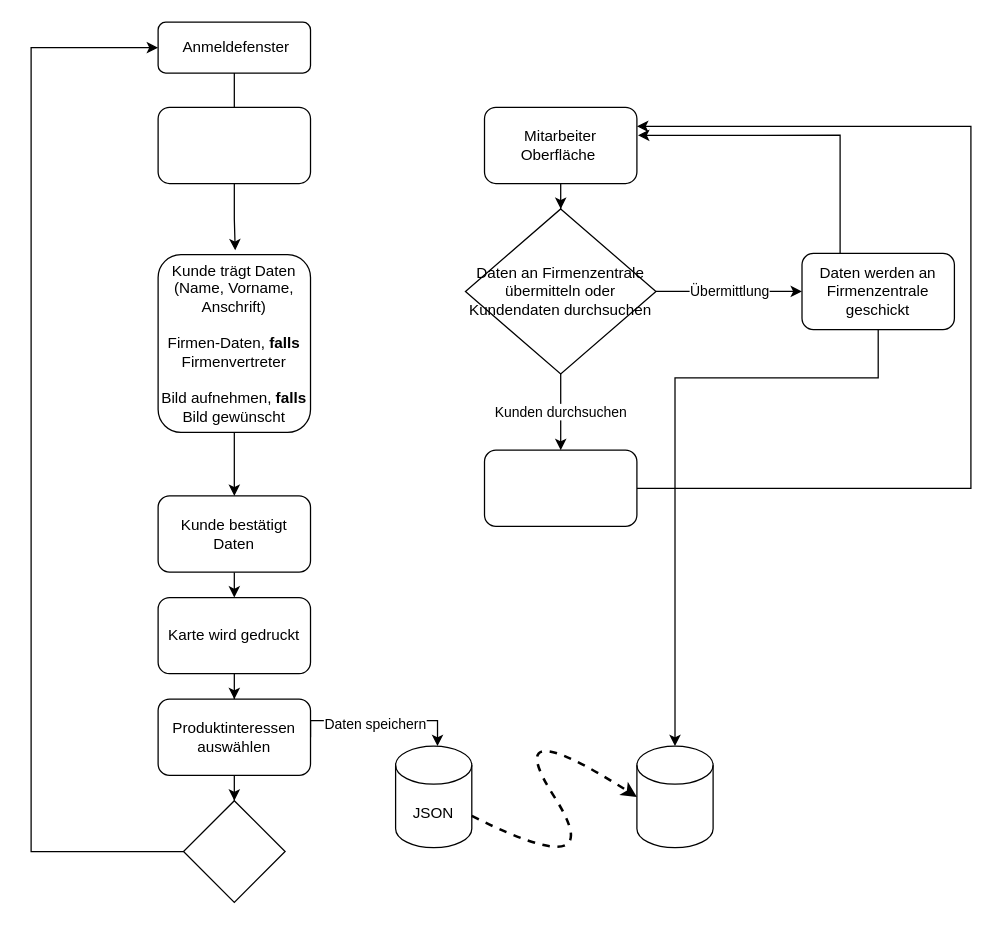
The diagram is 1003 pixels wide and 925 high, and some of its shapes have lost their labels. Each missing label, with the centre of its shape:
Firmen Datenbank: the point at 674,796
Kunde drückt "Abmelden": the point at 233,850
Kunde finden und eventuell Daten ändern: the point at 560,487
User drückt Anmeldeknopf: the point at 234,145
